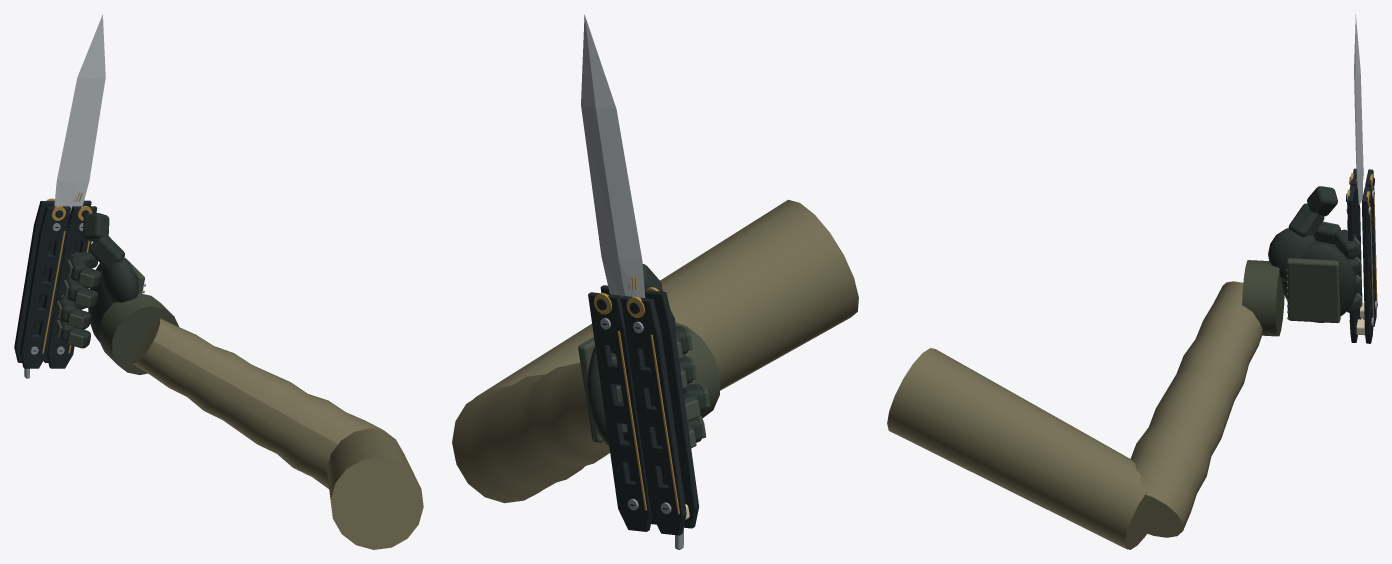
Rendered from butterfly-original.glb.
3 renders of one model, left to right at view 1: azimuth 30°, elevation 25°; view 2: azimuth 150°, elevation 25°; view 3: azimuth 270°, elevation 25°, orthographic. The views are drawn at different scales.
Parts seen in each view (by area): view 1: Sleeve, SafeHandleHinge, RightHand, Blade, FreeHandleHinge, RightFinger4Joint0, RightFinger4Joint1; view 2: Sleeve, SafeHandleHinge, Blade, FreeHandleHinge, RightHand; view 3: Sleeve, RightHand, FreeHandleHinge, SafeHandleHinge, Blade, RightFinger4Joint0, RightFinger4Joint1.
Part boxes in pixels (box(x1,y1,x2,y2)): Sleeve: box(132, 318, 423, 549); SafeHandleHinge: box(14, 198, 70, 368); RightHand: box(88, 257, 178, 374); Blade: box(54, 14, 105, 214); FreeHandleHinge: box(43, 200, 97, 368); RightFinger4Joint0: box(89, 236, 124, 268); RightFinger4Joint1: box(83, 213, 109, 241); Sleeve: box(452, 199, 858, 503); SafeHandleHinge: box(621, 287, 699, 535); Blade: box(581, 15, 645, 297); FreeHandleHinge: box(588, 285, 656, 531); RightHand: box(578, 310, 720, 445); Sleeve: box(887, 281, 1262, 549); RightHand: box(1242, 228, 1356, 336); FreeHandleHinge: box(1346, 185, 1374, 343); SafeHandleHinge: box(1349, 168, 1377, 326); Blade: box(1354, 14, 1363, 205); RightFinger4Joint0: box(1288, 203, 1324, 236); RightFinger4Joint1: box(1307, 186, 1337, 216).
Size of the model in its own units: 0.3681 by 0.5837 by 0.5693.
